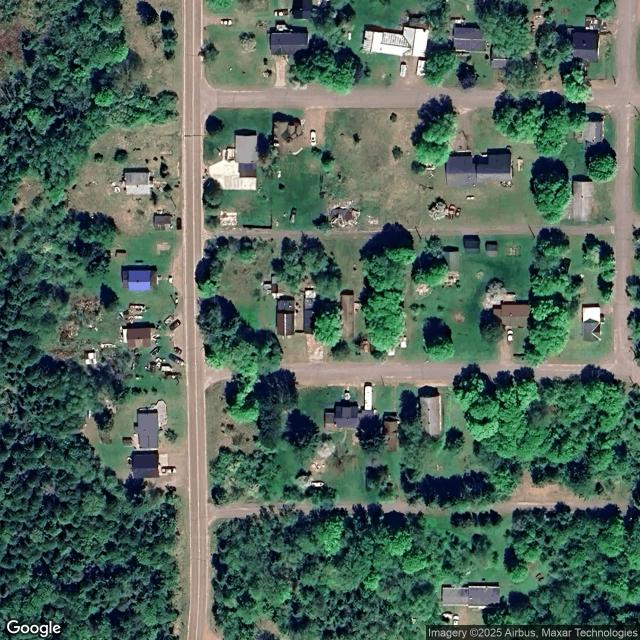Propane: (348, 32, 352, 41), (466, 196, 475, 200)
